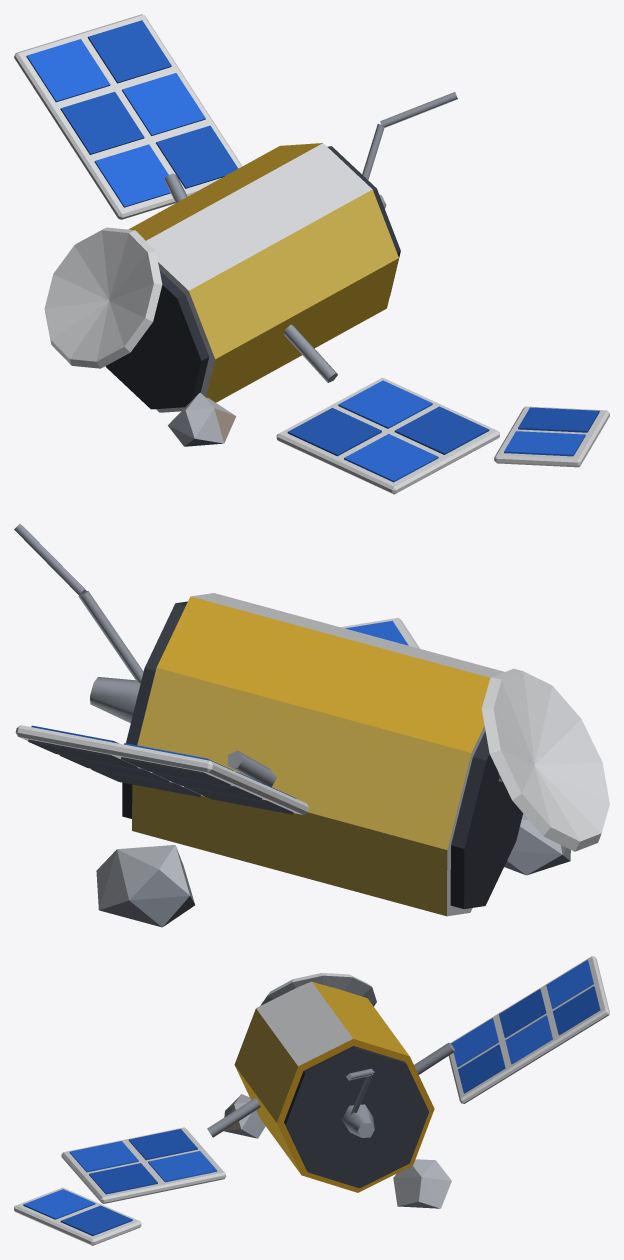
The model's file is satellite.glb.
3 renders of one model, top to bottom at view 1: azimuth 30°, elevation 25°; view 2: azimuth 150°, elevation 25°; view 3: azimuth 270°, elevation 25°, orthographic. The views are drawn at different scales.
Parts seen in each view (by area): view 1: Body; view 2: Body; view 3: Body.
Part boxes in pixels (box(x1,y1,x2,y2)): Body: box(14, 14, 609, 494); Body: box(14, 523, 609, 927); Body: box(14, 956, 609, 1245).
Size of the model in its own units: 2.68 by 1.42 by 4.06.
